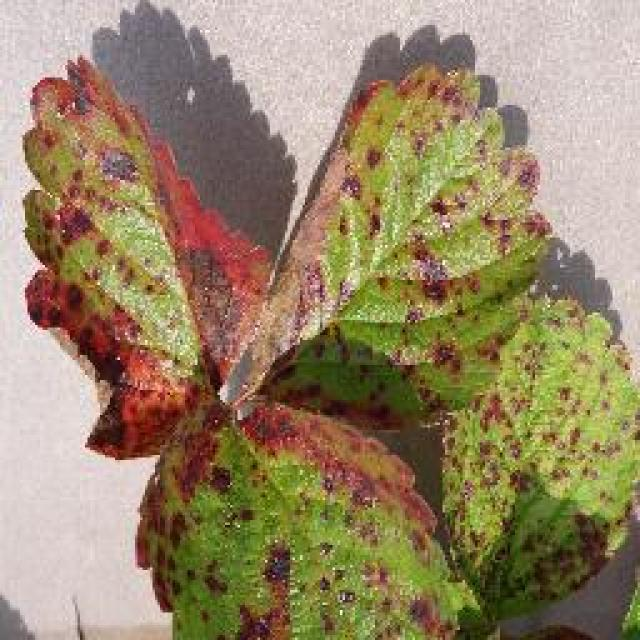Strawberry leaf scorch: (30, 21, 498, 582)
